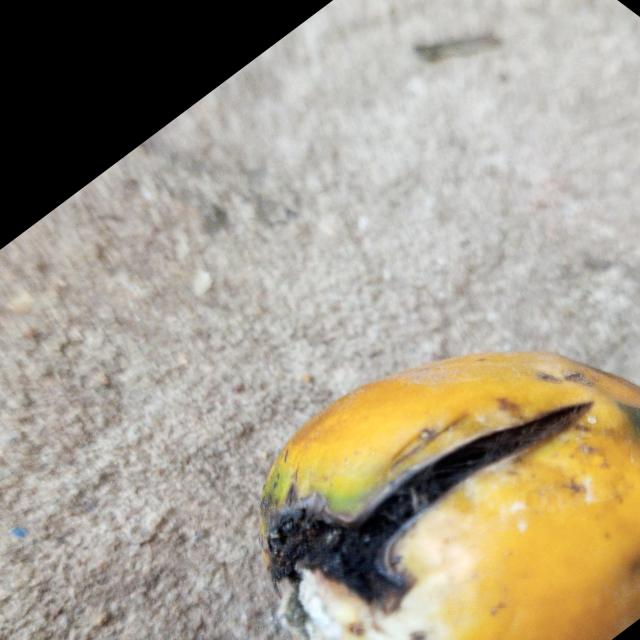damaged: (261, 352, 640, 640)
